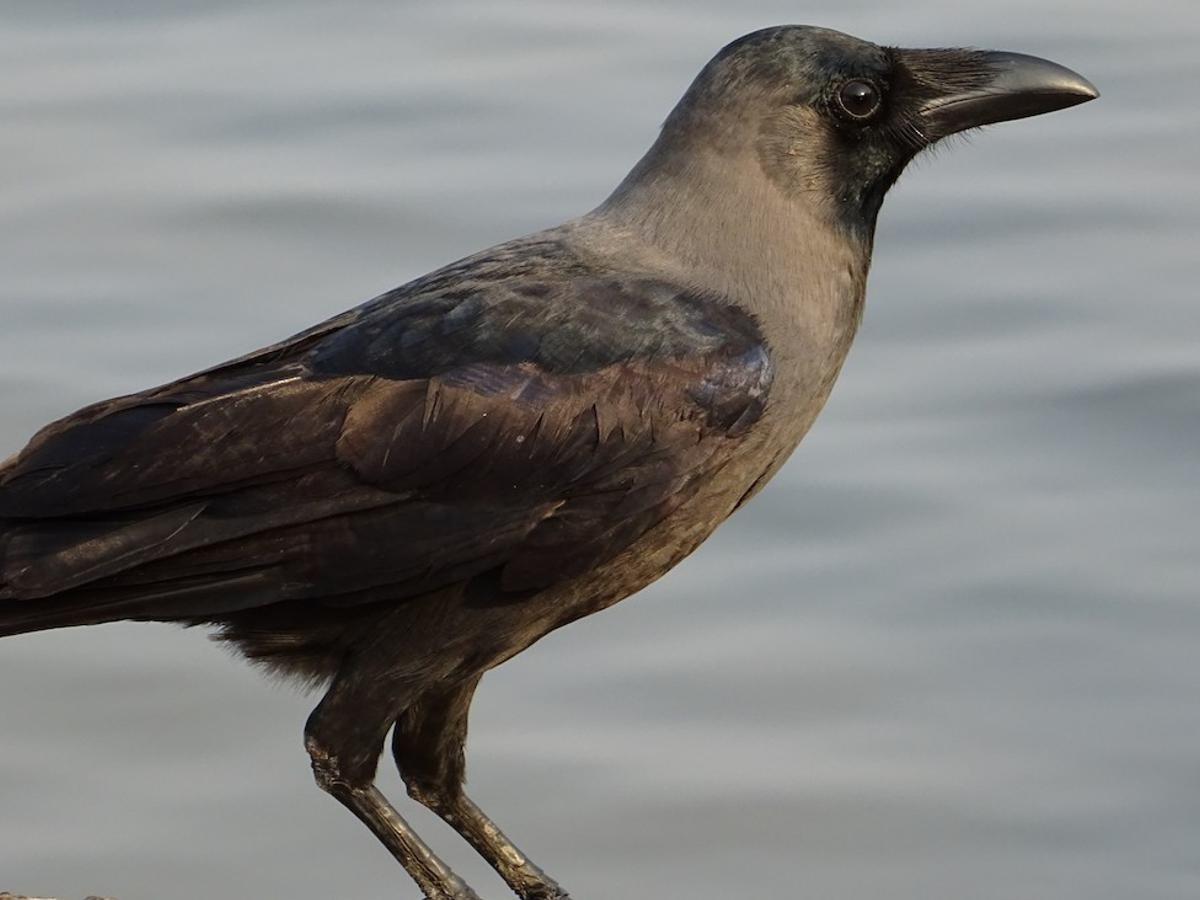crow: (1, 26, 1103, 900)
